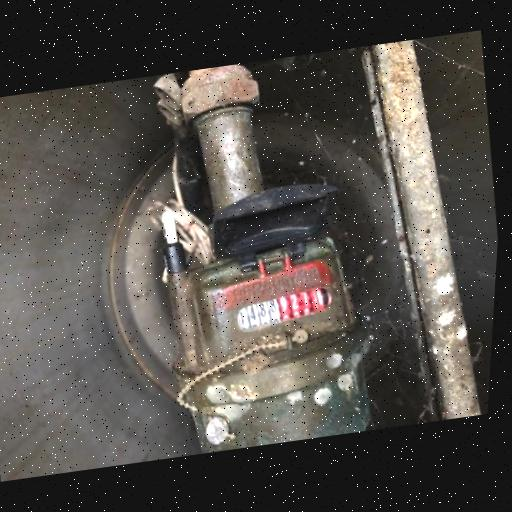1: (234, 307, 250, 333)
2: (285, 291, 304, 321)
4: (243, 303, 262, 331)
7: (296, 288, 316, 318)
8: (254, 300, 274, 329), (265, 297, 284, 327)
9: (274, 294, 294, 323)
border_water_meter_number: (230, 283, 339, 335)
